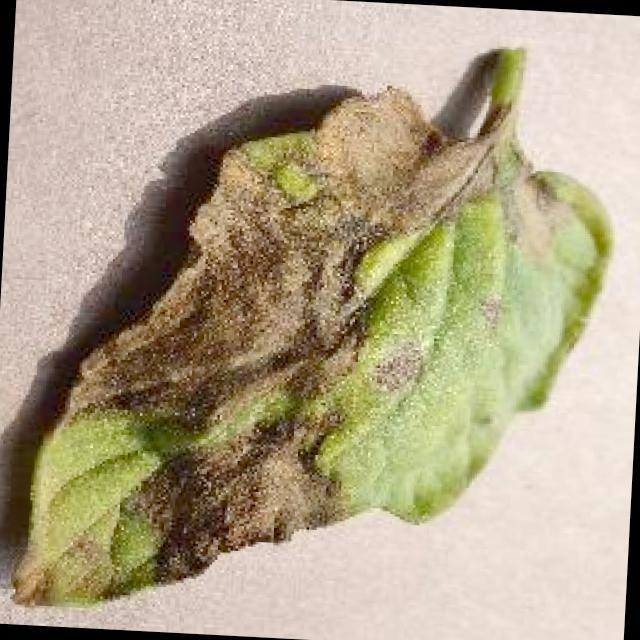Tomato late blight leaf: (13, 60, 621, 640)
